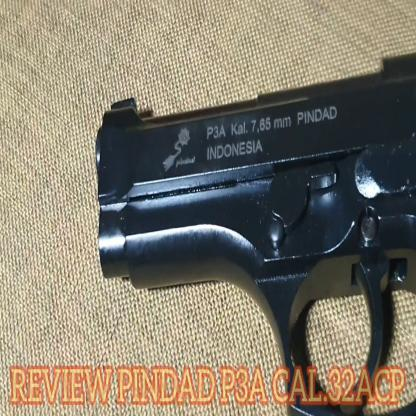handgun: (85, 38, 416, 358)
